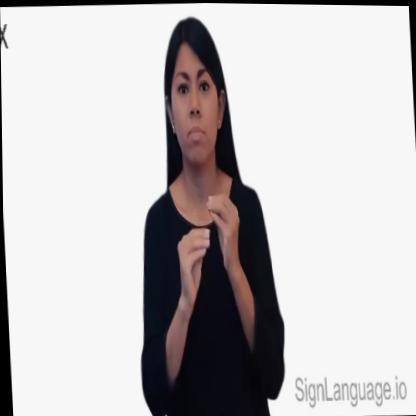Fix: (124, 6, 284, 416)
